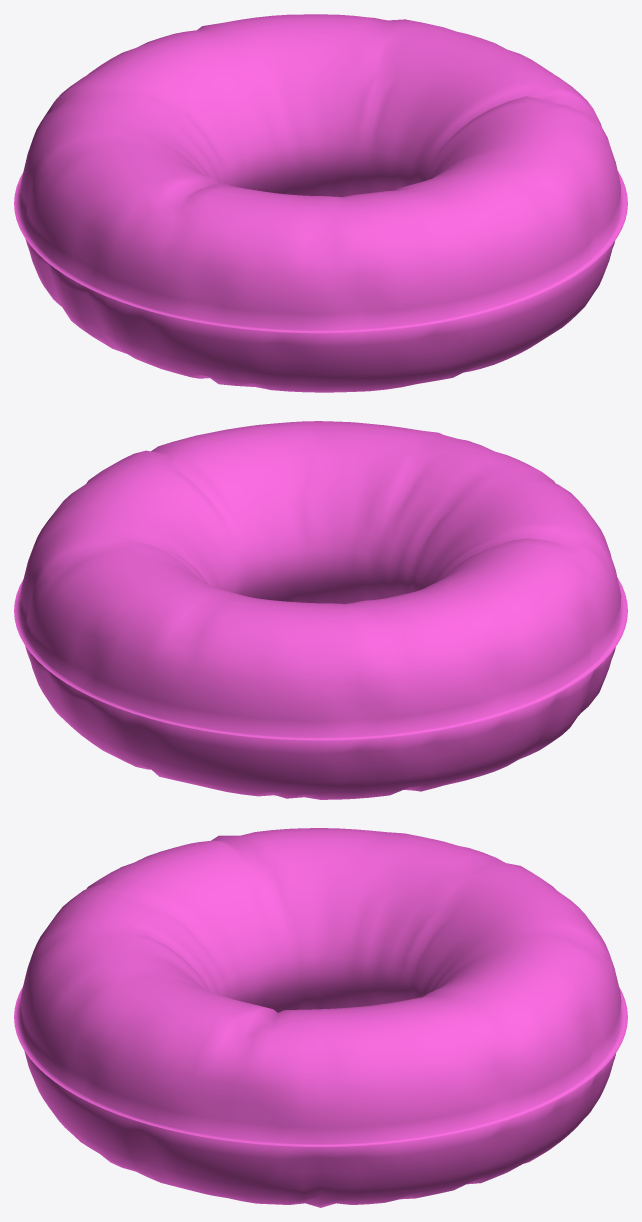
Rendered from RingFloatie.fbx.
The picture shows the model from 3 angles, top to bottom: view 1: azimuth 30°, elevation 25°; view 2: azimuth 150°, elevation 25°; view 3: azimuth 270°, elevation 25°; orthographic projection.
Visible parts, largest first — view 1: FloatieRingBase; view 2: FloatieRingBase; view 3: FloatieRingBase.
Boxes of the visible parts, x1,y1,x2,y2 form: FloatieRingBase: [14, 14, 627, 392]; FloatieRingBase: [14, 421, 627, 799]; FloatieRingBase: [14, 828, 627, 1207].
Bounding box in the file's own units: 236 × 76.6 × 236.
